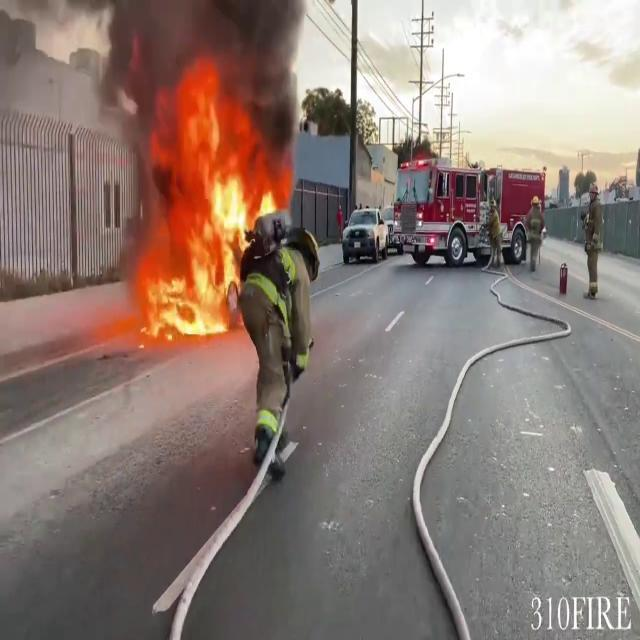Fire: (130, 63, 286, 340)
Smoke: (80, 0, 322, 148)
